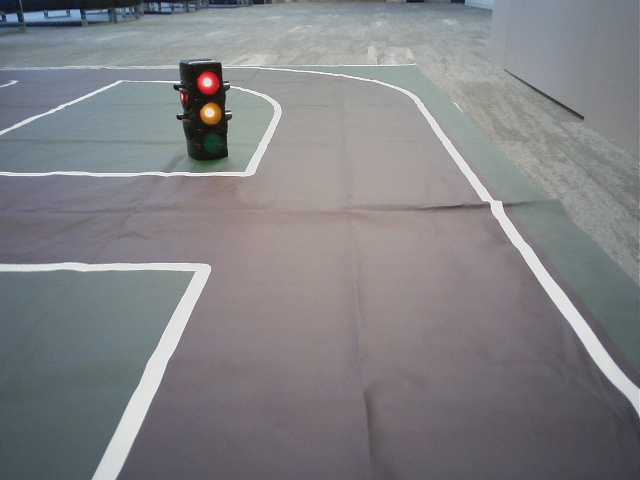red: (189, 65, 227, 158)
